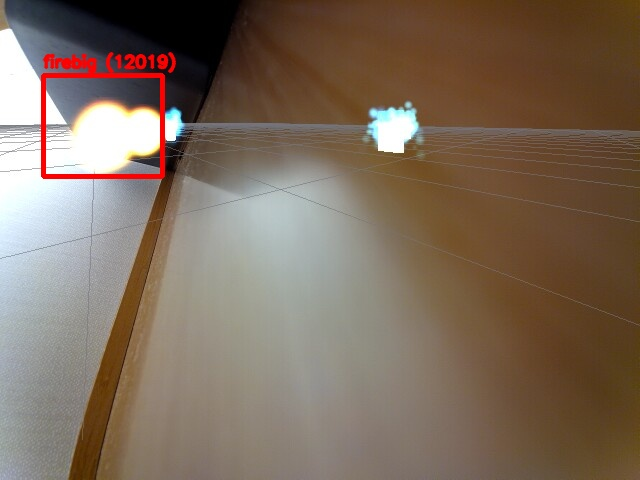firebig: (43, 75, 162, 176)
